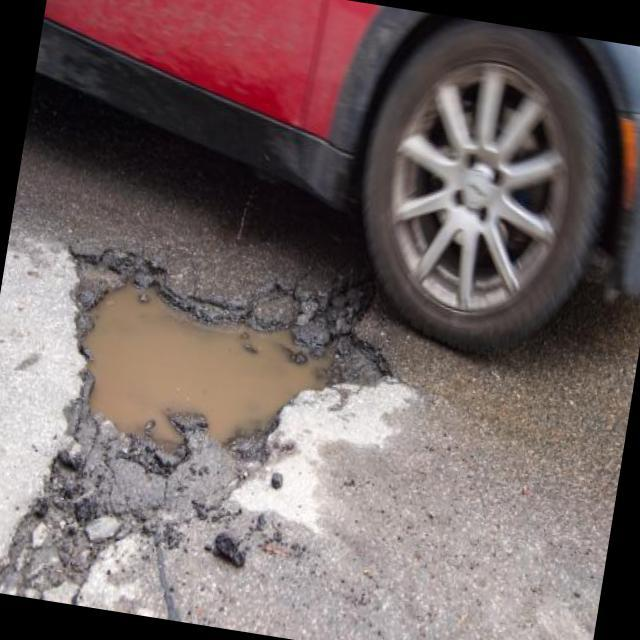Pothole: (0, 168, 442, 640)
